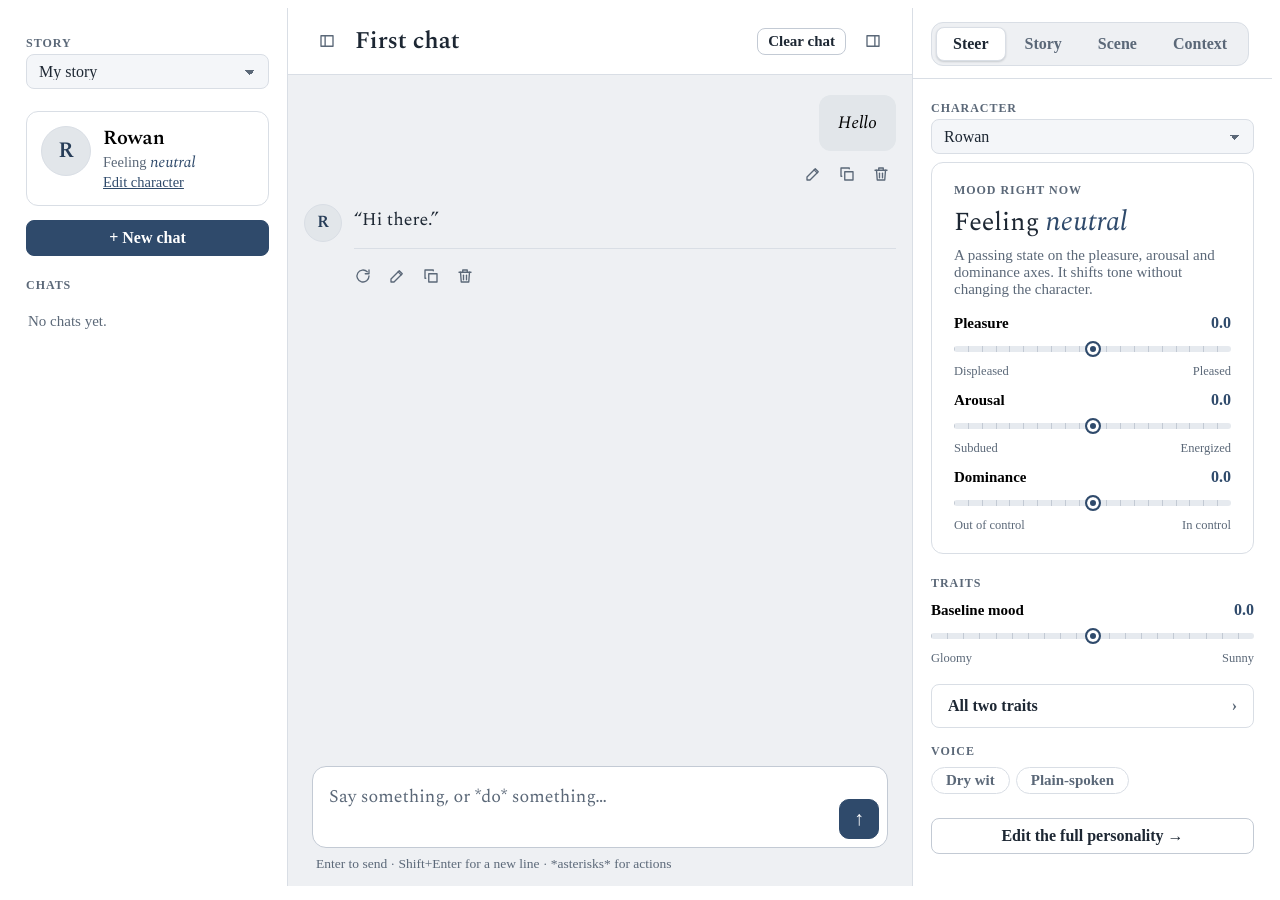
Test: the Scene tab › keeps the scene out of the chat header and shows it under its own tab
Check: the element "In the scene" is not shown
Click the tab "Scene" at {"x": 1117, "y": 44}, box [1081,27,1154,61]
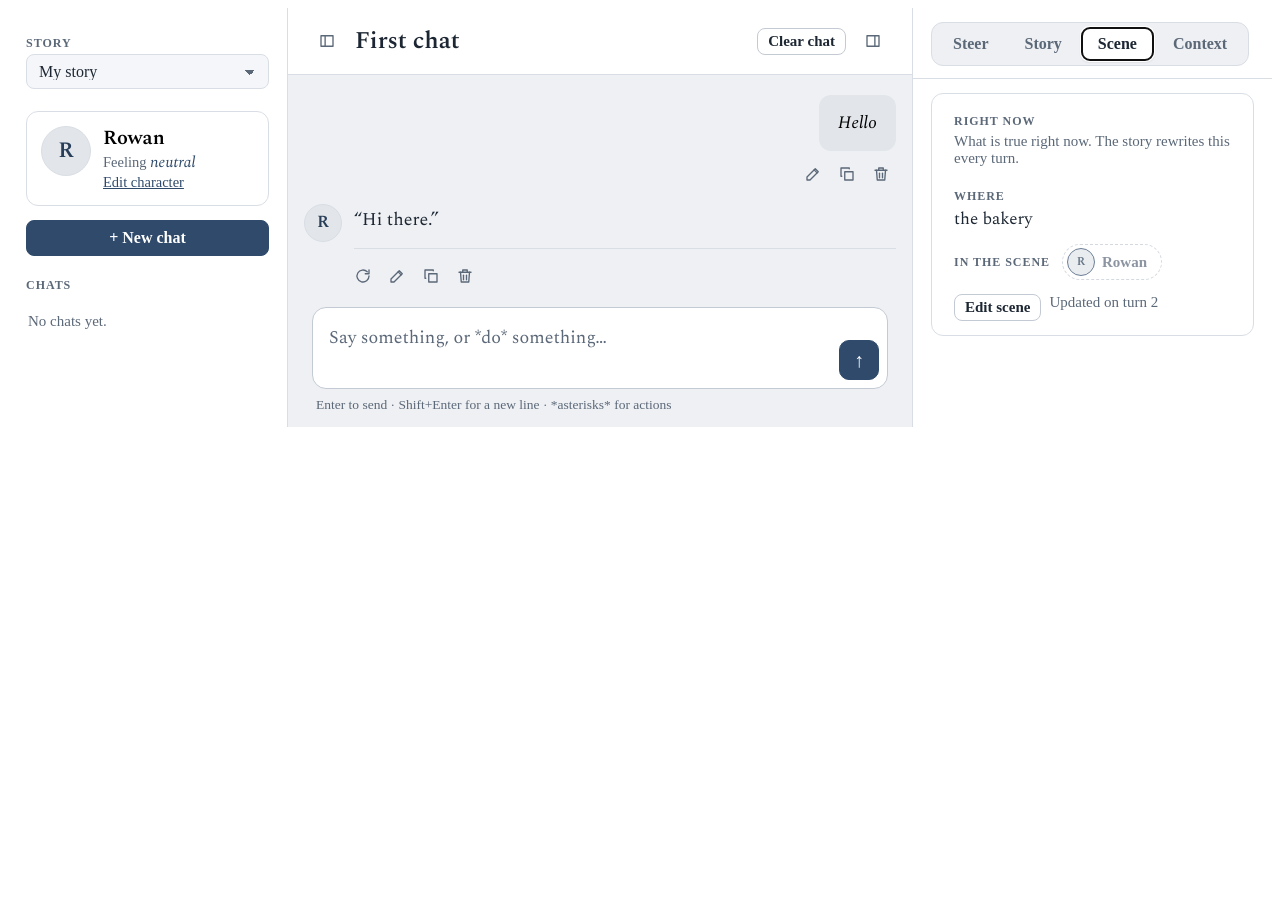
Check: the element "In the scene" is shown, box [954,244,1162,280]
Check: the text "the bakery" is shown, box [954,206,1032,232]
Check: the text "Updated on turn 2" is shown, box [1049,294,1158,311]
